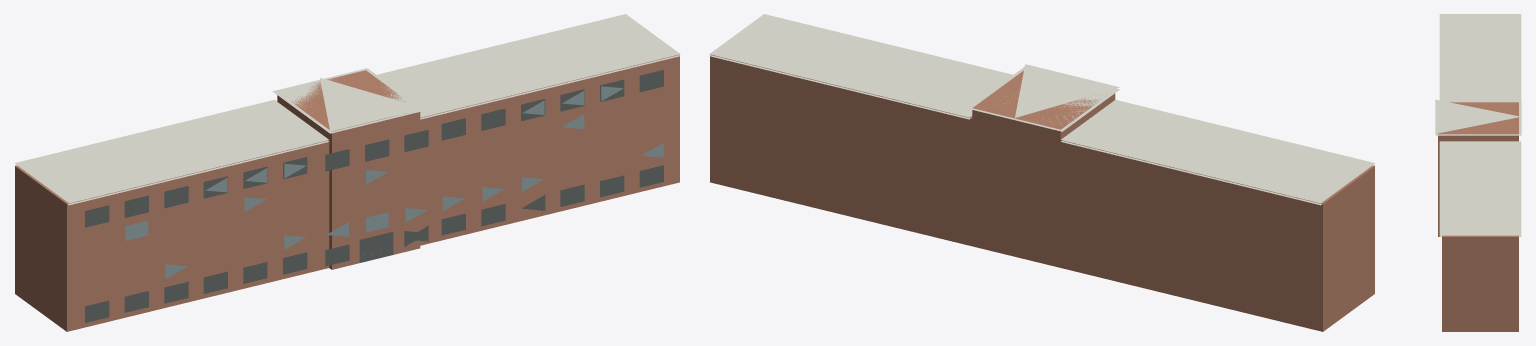
The model's file is buildings-20-far.glb.
3 views of the same model, side by side, from view 1: azimuth 30°, elevation 25°; view 2: azimuth 150°, elevation 25°; view 3: azimuth 270°, elevation 25° (orthographic). The views are drawn at different scales.
Visible parts, largest first — view 1: 恒隆物理楼 · Physics red brick.001, 恒隆物理楼 · Physics pale stone.001, 恒隆物理楼 · Physics window frames.001, 恒隆物理楼 · Physics glazing.001; view 2: 恒隆物理楼 · Physics red brick.001, 恒隆物理楼 · Physics pale stone.001; view 3: 恒隆物理楼 · Physics pale stone.001, 恒隆物理楼 · Physics red brick.001.
Boxes of the visible parts, box(x1,y1,x2,y2) form: 恒隆物理楼 · Physics red brick.001: box(15, 54, 679, 331); 恒隆物理楼 · Physics pale stone.001: box(14, 14, 680, 205); 恒隆物理楼 · Physics window frames.001: box(85, 70, 663, 322); 恒隆物理楼 · Physics glazing.001: box(125, 86, 663, 278); 恒隆物理楼 · Physics red brick.001: box(710, 54, 1374, 331); 恒隆物理楼 · Physics pale stone.001: box(709, 14, 1375, 205); 恒隆物理楼 · Physics pale stone.001: box(1435, 14, 1521, 236); 恒隆物理楼 · Physics red brick.001: box(1438, 102, 1518, 331).
Bounding box in the file's own units: 92.8 × 20.3 × 20.67.
